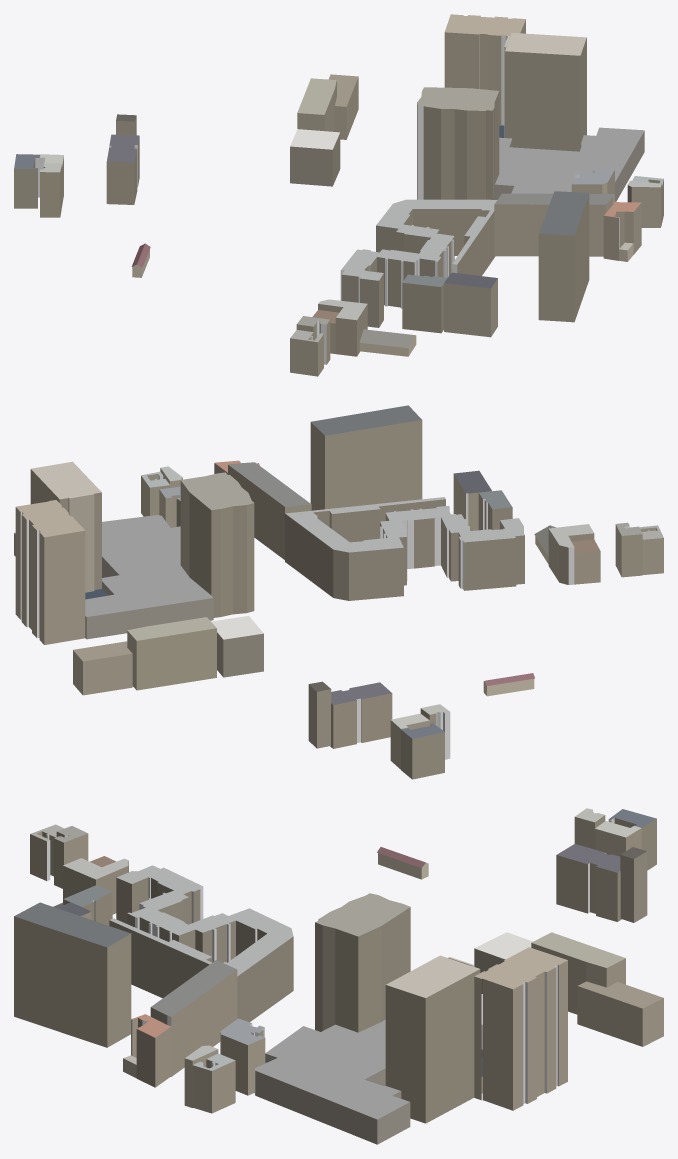
3 renders of one model, top to bottom at view 1: azimuth 30°, elevation 25°; view 2: azimuth 150°, elevation 25°; view 3: azimuth 270°, elevation 25°, orthographic. The views are drawn at different scales.
Visible parts, largest first — view 1: tuile; view 2: tuile; view 3: tuile.
Boxes of the visible parts, <box> form: tuile: <box>14,14,663,376</box>; tuile: <box>14,405,663,779</box>; tuile: <box>14,808,663,1144</box>.
Bounding box in the file's own units: 289 × 60.45 × 267.
